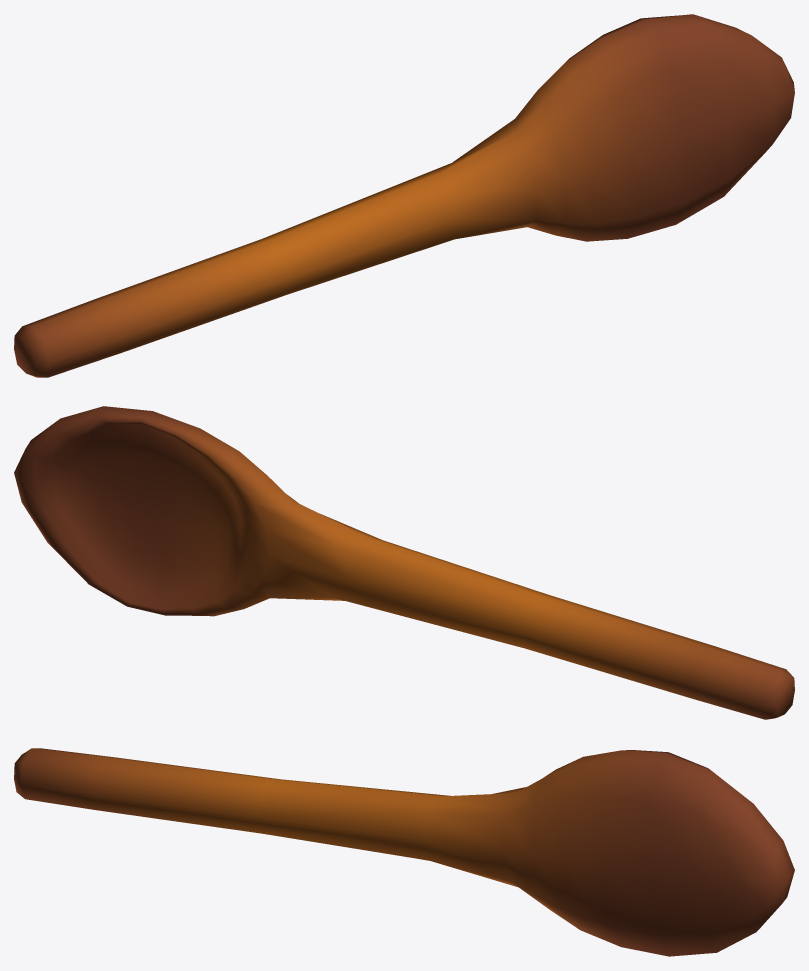
Rendered from ложка.fbx.
3 renders of one model, top to bottom at view 1: azimuth 30°, elevation 25°; view 2: azimuth 150°, elevation 25°; view 3: azimuth 330°, elevation 25°, orthographic. The views are drawn at different scales.
Parts seen in each view (by area): view 1: Cube.014; view 2: Cube.014; view 3: Cube.014.
Part boxes in pixels (left/top/right/bottom): Cube.014: left=14, top=14, right=794, bottom=377; Cube.014: left=14, top=406, right=794, bottom=719; Cube.014: left=14, top=748, right=794, bottom=956.
Size of the model in its own units: 1803 by 447 by 188.
